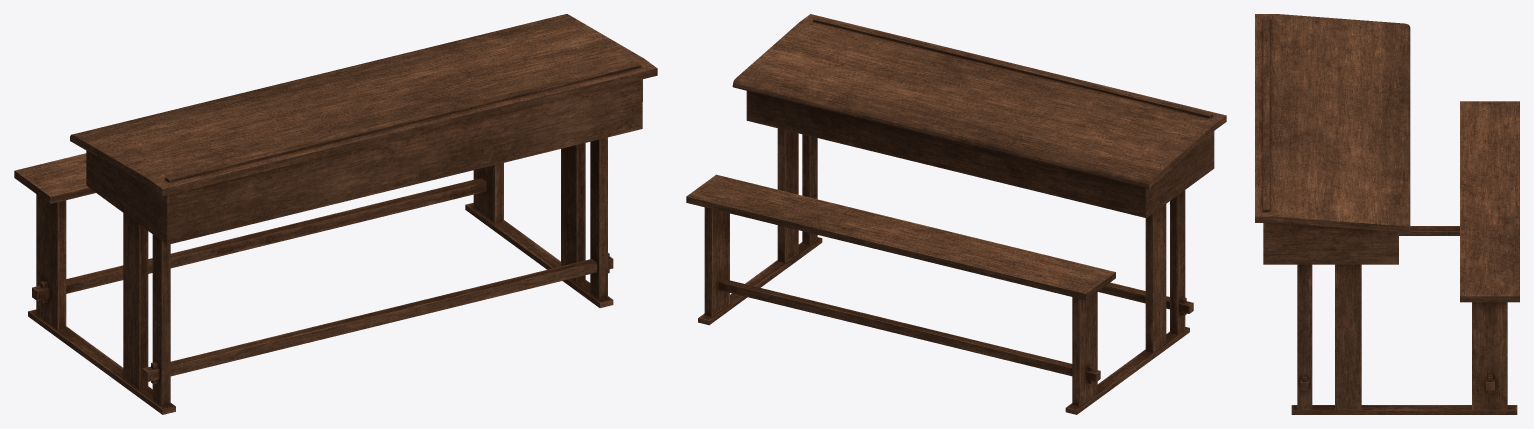
Rendered from old_school_bench_game_asset.glb.
The picture shows the model from 3 angles, left to right: view 1: azimuth 30°, elevation 25°; view 2: azimuth 150°, elevation 25°; view 3: azimuth 270°, elevation 25°; orthographic projection. The views are drawn at different scales.
Visible parts, largest first — view 1: Cube.005; view 2: Cube.005; view 3: Cube.005.
Boxes of the visible parts, x1,y1,x2,y2 form: Cube.005: [14, 14, 657, 414]; Cube.005: [686, 14, 1226, 414]; Cube.005: [1255, 14, 1519, 414].
Size of the model in its own units: 2.16 by 1.04 by 1.19.
1 material, 1 textured.
